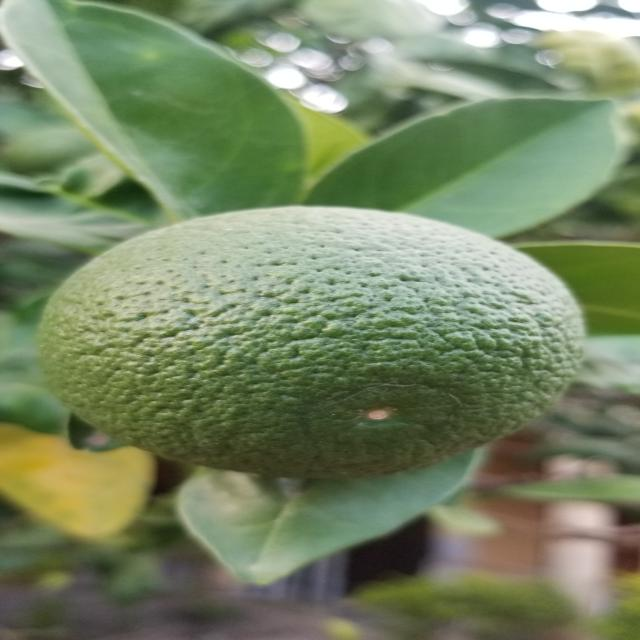Unripe: (23, 189, 597, 482)
